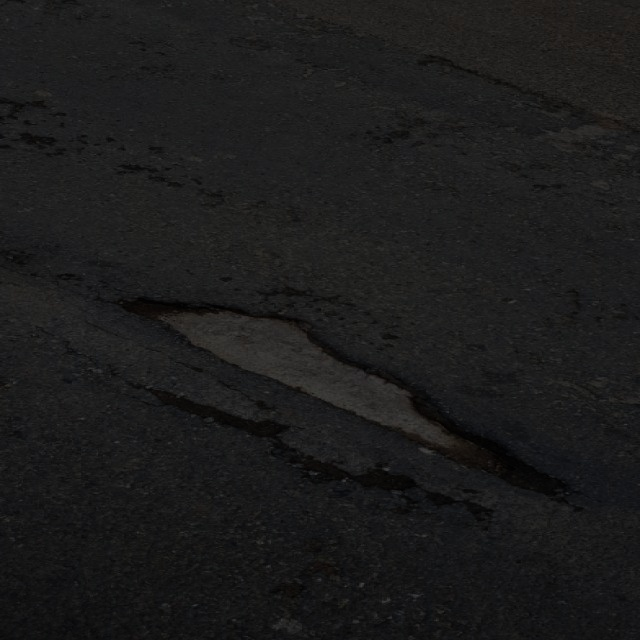Pothole: (103, 292, 596, 508)
